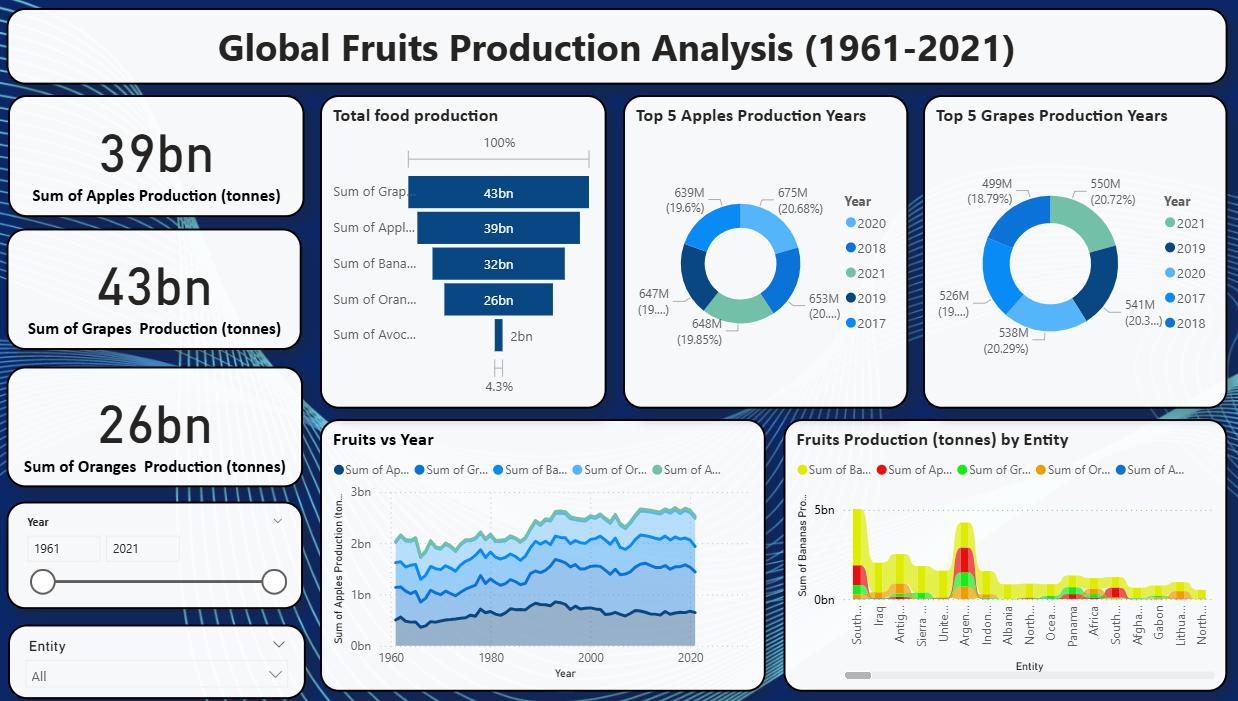

The dashboard page shown, as its layout file describes it:
{"tool":"powerbi","page":{"name":"Global Fruits Analysis","canvas":[1280,720],"ordinal":1},"visuals":[{"type":"textbox","box":[16.7,15,1243.3,76.7],"z":0},{"type":"card","fields":{"Values":["Sum(world food production.Apples Production (tonnes))"]},"box":[17.8,102.9,299.2,123.5],"z":1000},{"type":"card","fields":{"Values":["Sum(world food production.Grapes  Production (tonnes))"]},"box":[16.7,237.7,298.3,122.7],"z":2000},{"type":"card","fields":{"Values":["Sum(world food production.Oranges  Production (tonnes))"]},"box":[16.5,377.4,299.2,122.1],"z":3000},{"type":"stackedAreaChart","title":"Fruits vs Year","fields":{"Category":["world food production.Year"],"Y":["Sum(world food production.Apples Production (tonnes))","Sum(world food production.Grapes  Production (tonnes))","Sum(world food production.Bananas  Production ( tonnes))","Sum(world food production.Oranges  Production (tonnes))","Sum(world food production.Avocados Production (tonnes))"]},"box":[333.1,430,449.7,275.6],"z":4000},{"type":"slicer","fields":{"Values":["world food production.Year"]},"box":[16.5,513.3,299.2,108.4],"z":5000},{"type":"ribbonChart","title":"Fruits Production (tonnes) by Entity","fields":{"Category":["world food production.Entity"],"Y":["Sum(world food production.Bananas  Production ( tonnes))","Sum(world food production.Apples Production (tonnes))","Sum(world food production.Grapes  Production (tonnes))","Sum(world food production.Oranges  Production (tonnes))","Sum(world food production.Avocados Production (tonnes))"]},"box":[801,430,448.2,275.6],"z":6000},{"type":"slicer","fields":{"Values":["world food production.Entity"]},"box":[17.8,638.1,300.5,75.5],"z":7000},{"type":"donutChart","title":"Top 5 Apples Production Years ","fields":{"Category":["world food production.Year"],"Y":["Sum(world food production.Apples Production (tonnes))"]},"box":[639,103,287.7,316.5],"z":8000},{"type":"donutChart","title":"Top 5 Grapes Production Years ","fields":{"Category":["world food production.Year"],"Y":["Sum(world food production.Oranges  Production (tonnes))"]},"box":[941.8,103,307.4,316.5],"z":9000},{"type":"funnel","title":"Total food production","fields":{"Y":["Sum(world food production.Grapes  Production (tonnes))","Sum(world food production.Apples Production (tonnes))","Sum(world food production.Bananas  Production ( tonnes))","Sum(world food production.Oranges  Production (tonnes))","Sum(world food production.Avocados Production (tonnes))"]},"box":[333.1,103,289.2,316.5],"z":10000}]}

Visuals, with their boxes in screenshot pixels (x1, y1, x2, y2), scaled from the page's 1280x720 canvas onto the 1238x701 screenshot:
textbox: (16,15,1219,89)
card - Sum(world food production.Apples Production (tonnes)): (17,100,307,220)
card - Sum(world food production.Grapes  Production (tonnes)): (16,231,305,351)
card - Sum(world food production.Oranges  Production (tonnes)): (16,367,305,486)
"Fruits vs Year" stackedAreaChart: (322,419,757,687)
slicer - world food production.Year: (16,500,305,605)
"Fruits Production (tonnes) by Entity" ribbonChart: (775,419,1208,687)
slicer - world food production.Entity: (17,621,308,695)
"Top 5 Apples Production Years " donutChart: (618,100,896,408)
"Top 5 Grapes Production Years " donutChart: (911,100,1208,408)
"Total food production" funnel: (322,100,602,408)
